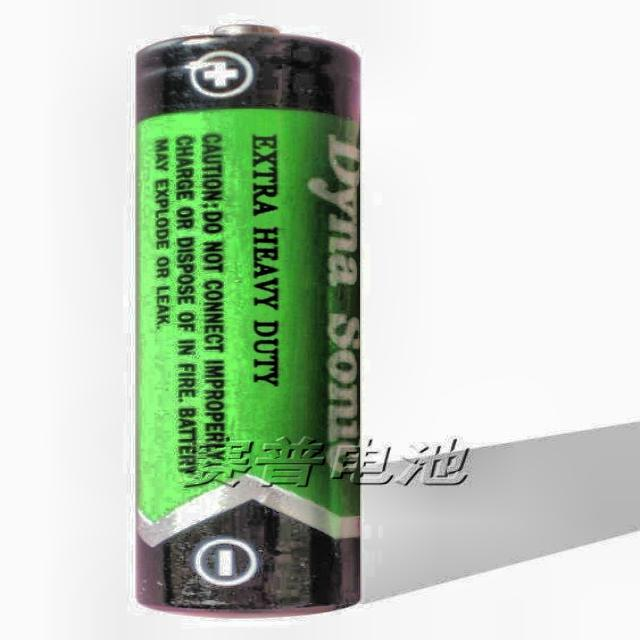Non-Valuable Waste - Batteries: (137, 25, 360, 616)
